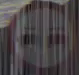No overtake: (8, 4, 68, 57)
